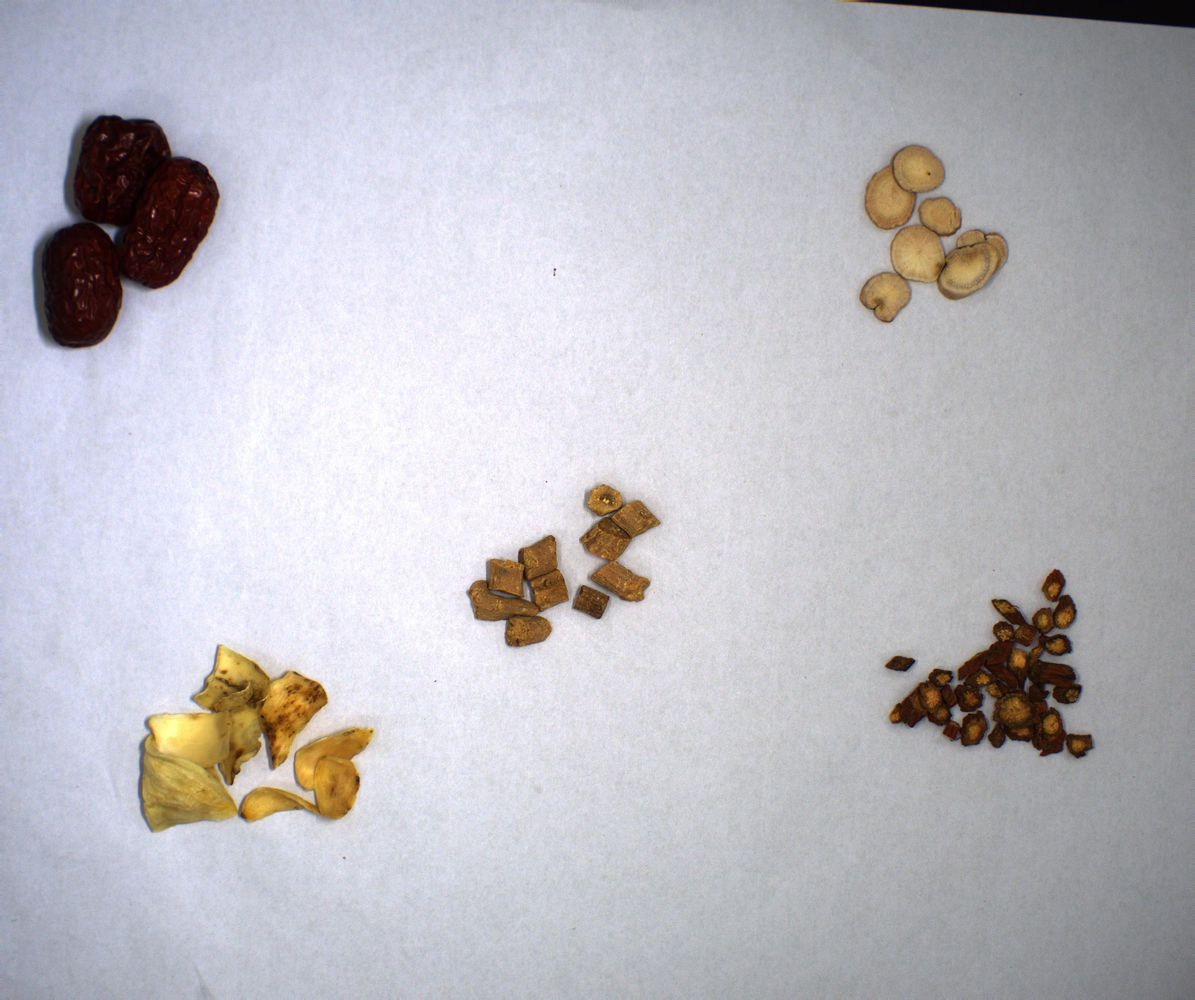baihe: (134, 635, 379, 847)
baishao: (847, 146, 1016, 324)
danshen: (877, 565, 1109, 780)
dazao: (25, 104, 227, 363)
niuxi: (457, 476, 664, 658)
